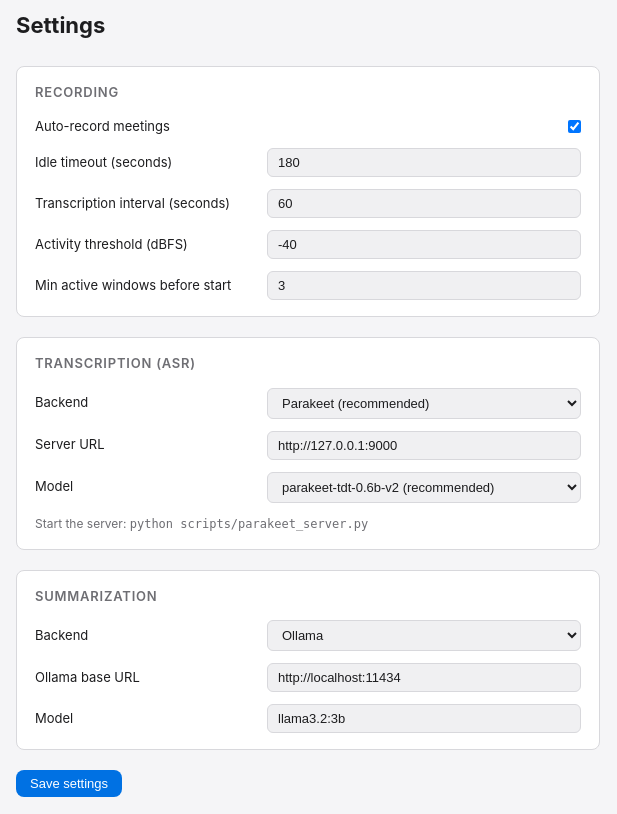
Test: SettingsPanel › shows Whisper options when Whisper CLI is selected
Select "Whisper CLI (fallback)" in the dropdown labelled "Backend" below "Transcription (ASR)" at [424, 403], box [267,388,581,418]
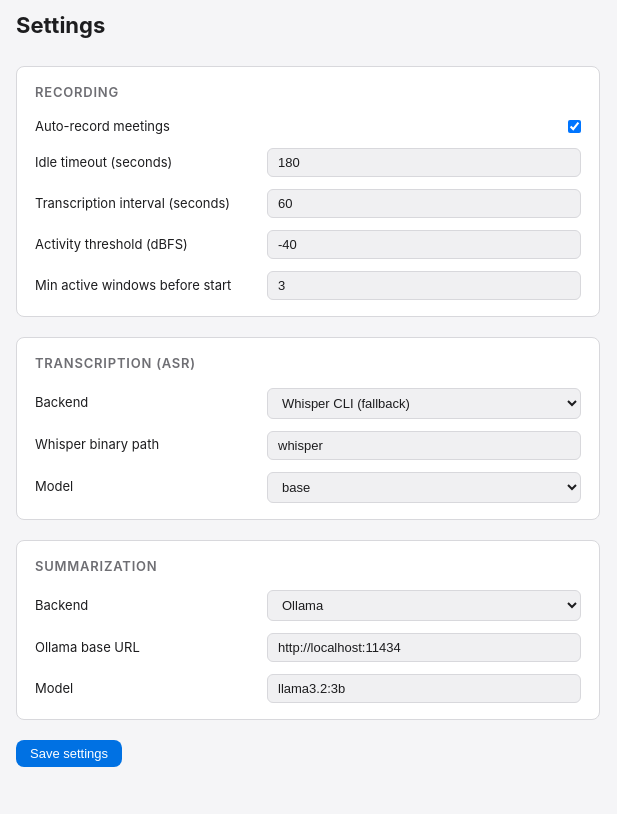
Expected: the text "Whisper binary path" is shown, [35,436,159,452]
